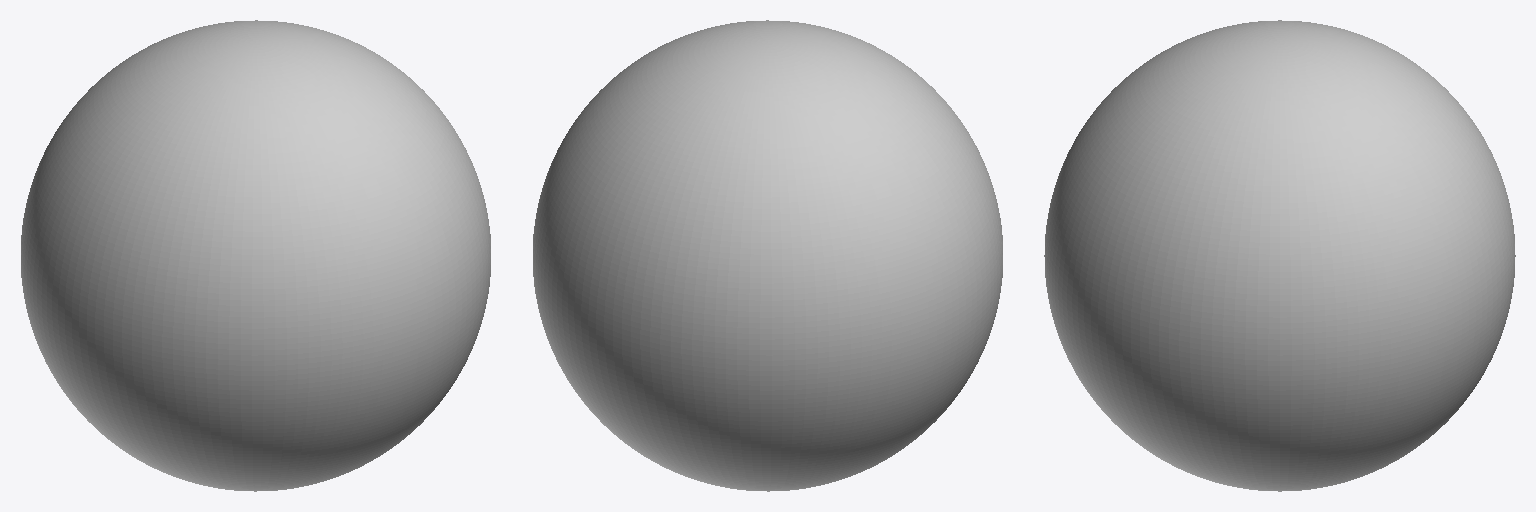
The model's file is haikei.obj.
The picture shows the model from 3 angles: view 1: azimuth 30°, elevation 25°; view 2: azimuth 150°, elevation 25°; view 3: azimuth 270°, elevation 25°; orthographic projection.
Visible parts, largest first — view 1: 球; view 2: 球; view 3: 球.
Boxes of the visible parts, <box> form: 球: <box>21,20,490,491</box>; 球: <box>533,20,1002,491</box>; 球: <box>1044,20,1515,491</box>.
Size of the model in its own units: 2 by 2 by 2.